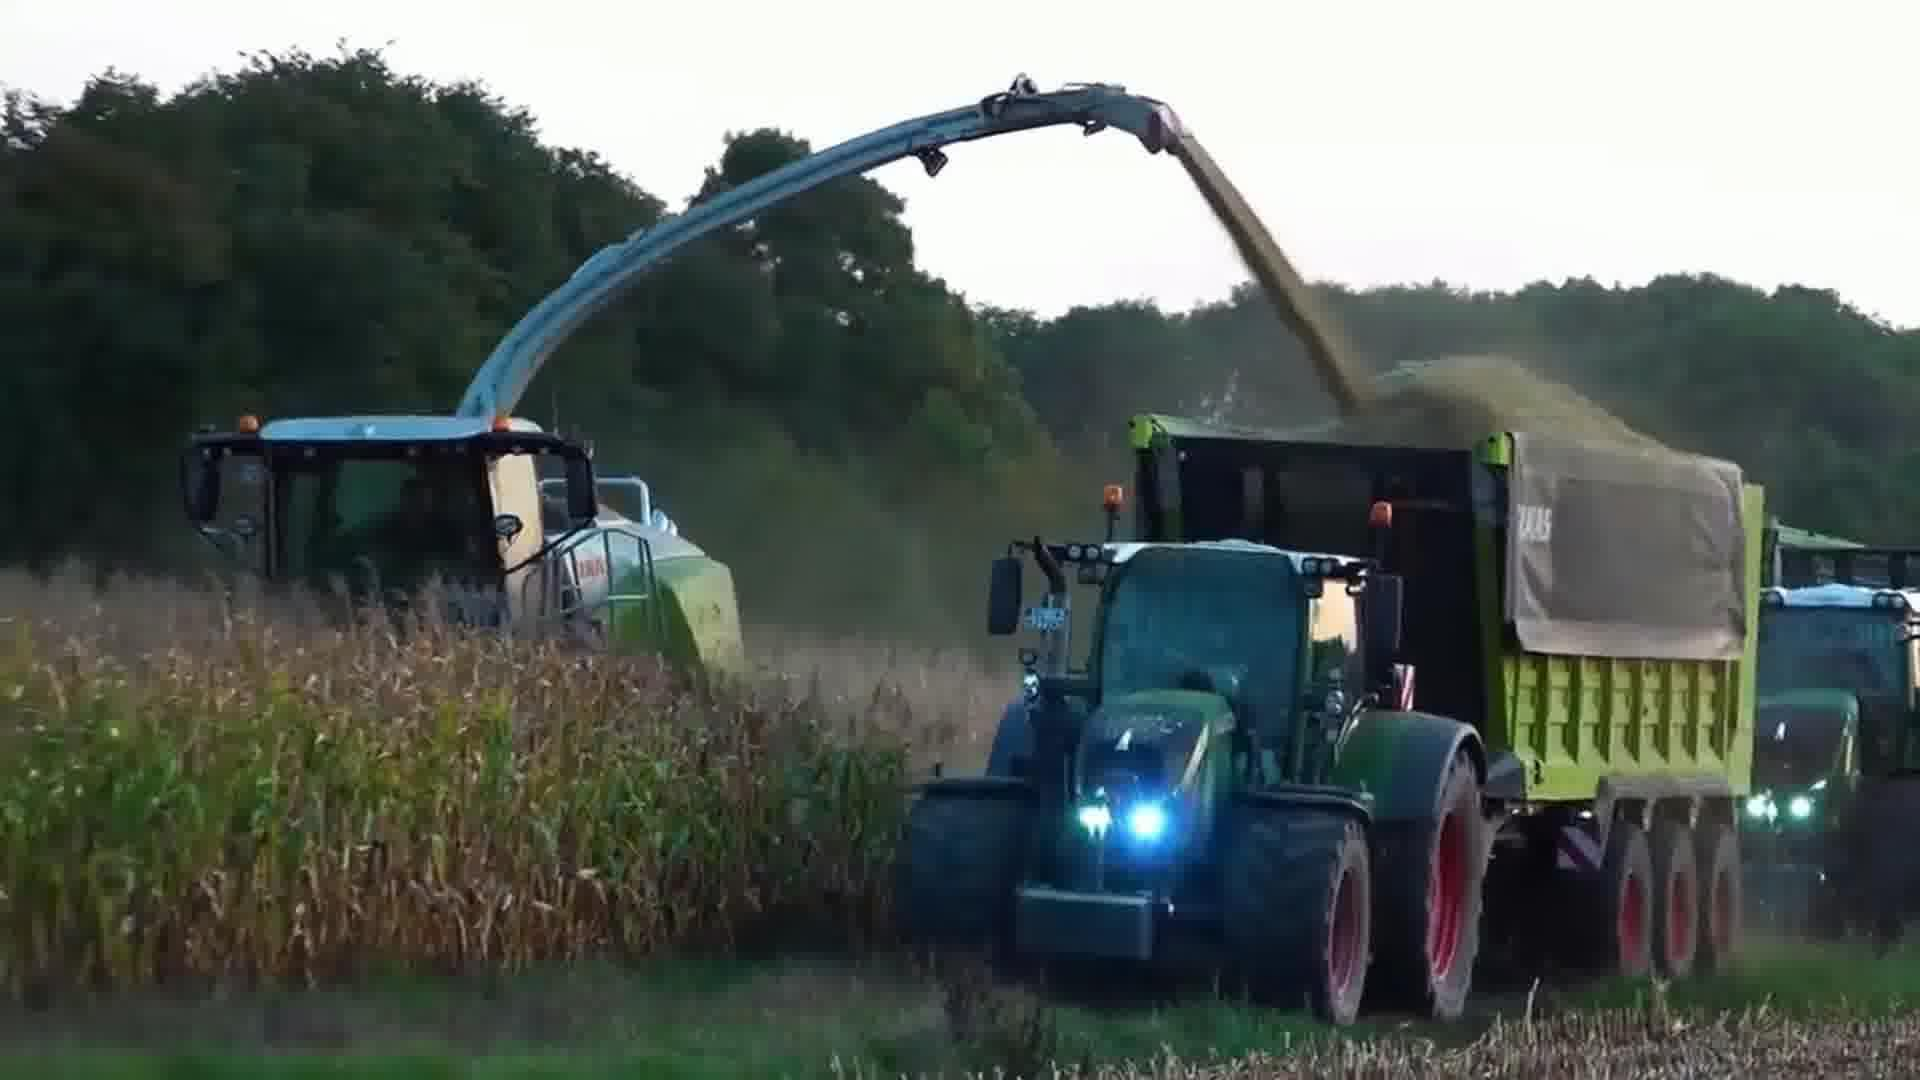combine harvester: (177, 75, 1201, 740)
tractor: (889, 481, 1490, 1029), (1749, 572, 1920, 965)
trailer: (1127, 375, 1760, 980)
